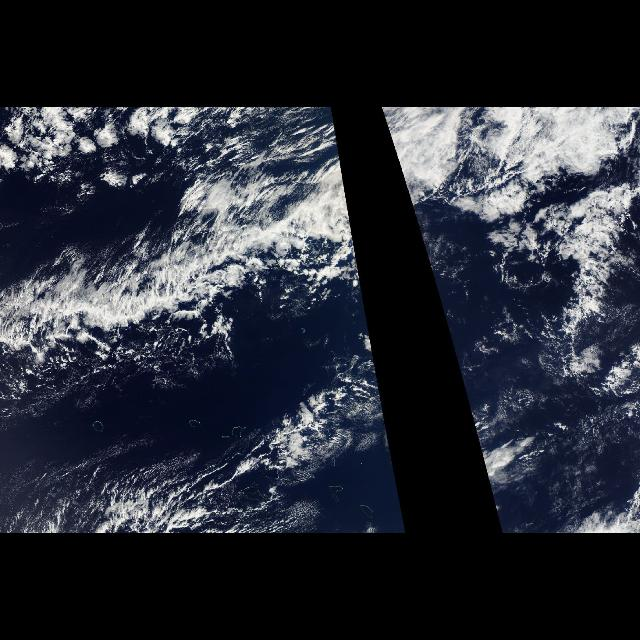Fish: (0, 132, 382, 406), (393, 150, 473, 378)
